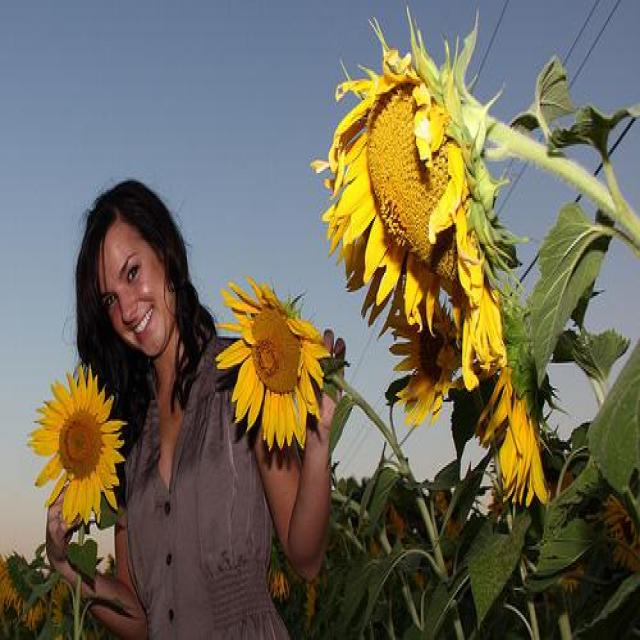sunflower: (310, 54, 507, 352), (216, 278, 331, 451), (27, 366, 126, 523), (472, 367, 557, 502), (391, 304, 461, 426), (601, 496, 640, 570), (0, 559, 41, 627), (436, 485, 464, 536)
